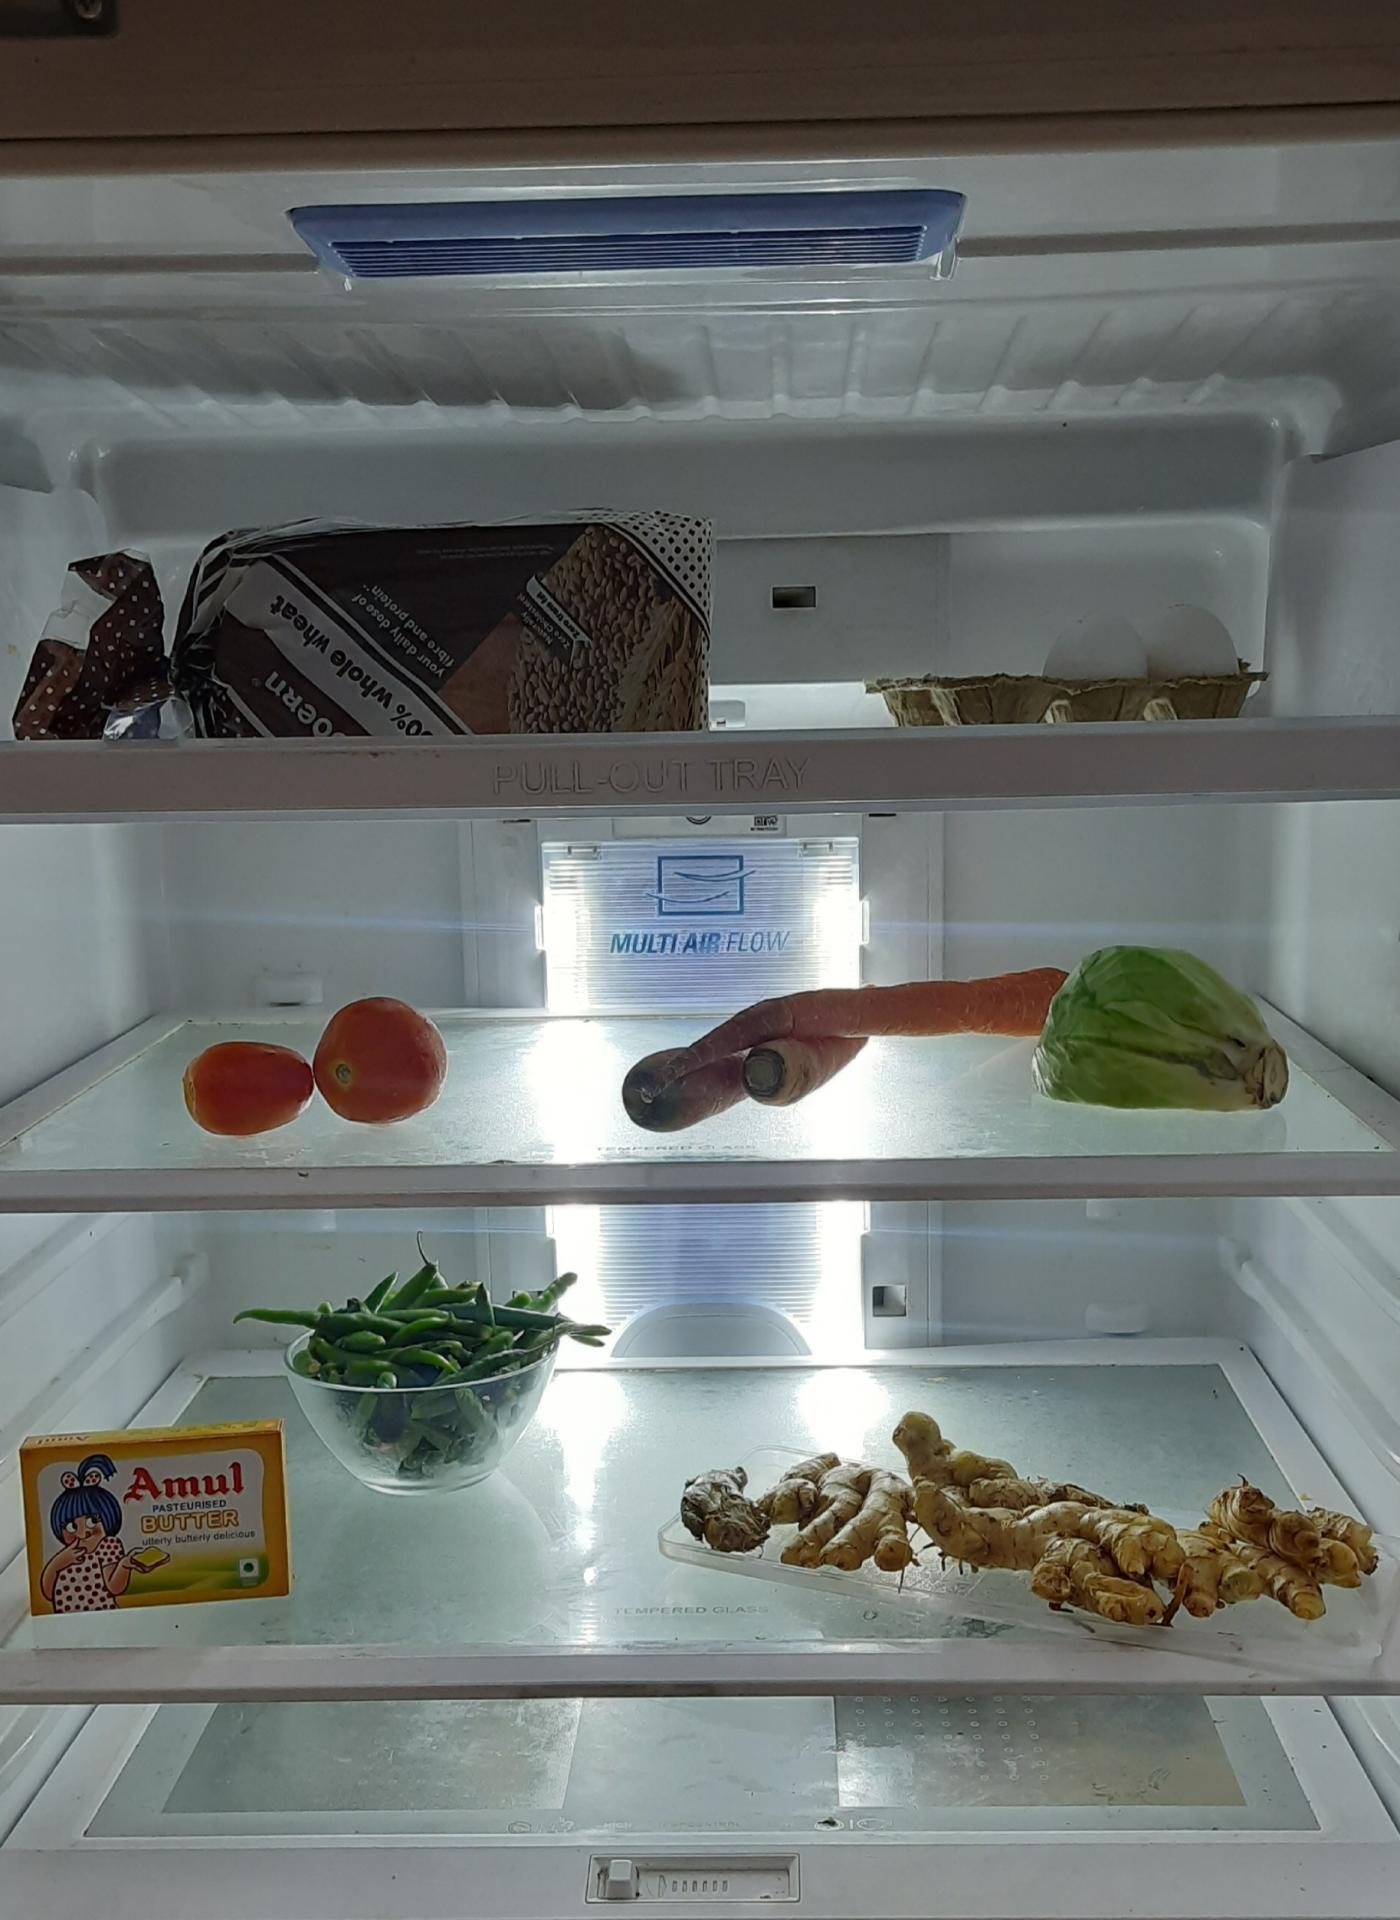bread: (12, 505, 710, 724)
butter: (21, 1424, 298, 1625)
cabbage: (1029, 951, 1290, 1118)
carrots: (623, 969, 1066, 1128)
chillies: (306, 1261, 574, 1471)
egg: (1048, 604, 1254, 689)
ginger: (687, 1395, 1328, 1565)
tomato: (182, 999, 447, 1136)
